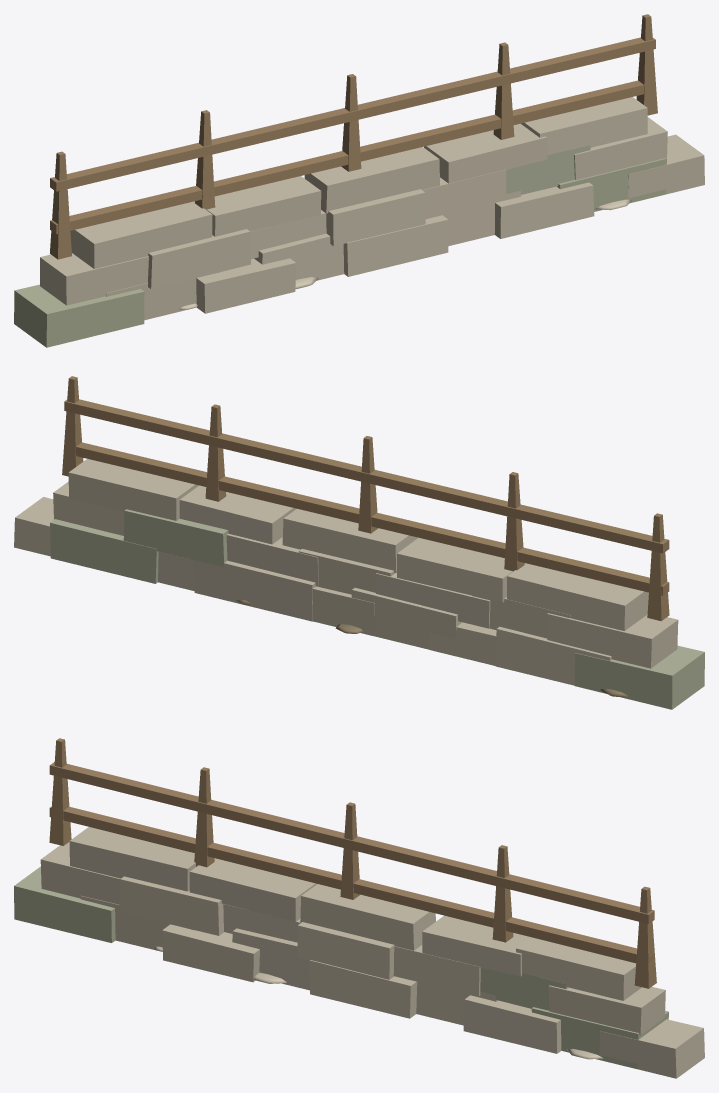
File: road_fence_run.glb
3 views of the same model, one above another, from view 1: azimuth 30°, elevation 25°; view 2: azimuth 150°, elevation 25°; view 3: azimuth 330°, elevation 25° (orthographic).
Parts seen in each view (by area): view 1: Fence_Stone, Fence_Wood; view 2: Fence_Stone, Fence_Wood; view 3: Fence_Stone, Fence_Wood.
Boxes of the visible parts, x1,y1,x2,y2 form: Fence_Stone: (14,97,704,347); Fence_Wood: (50,14,657,259); Fence_Stone: (14,459,704,709); Fence_Wood: (62,376,669,621); Fence_Stone: (14,827,704,1078); Fence_Wood: (49,738,656,988).
Size of the model in its own units: 3.75 by 0.9864 by 0.4255.
